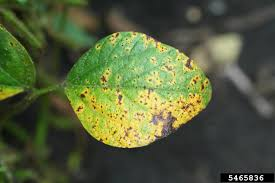unhealthy: (50, 21, 225, 150)
